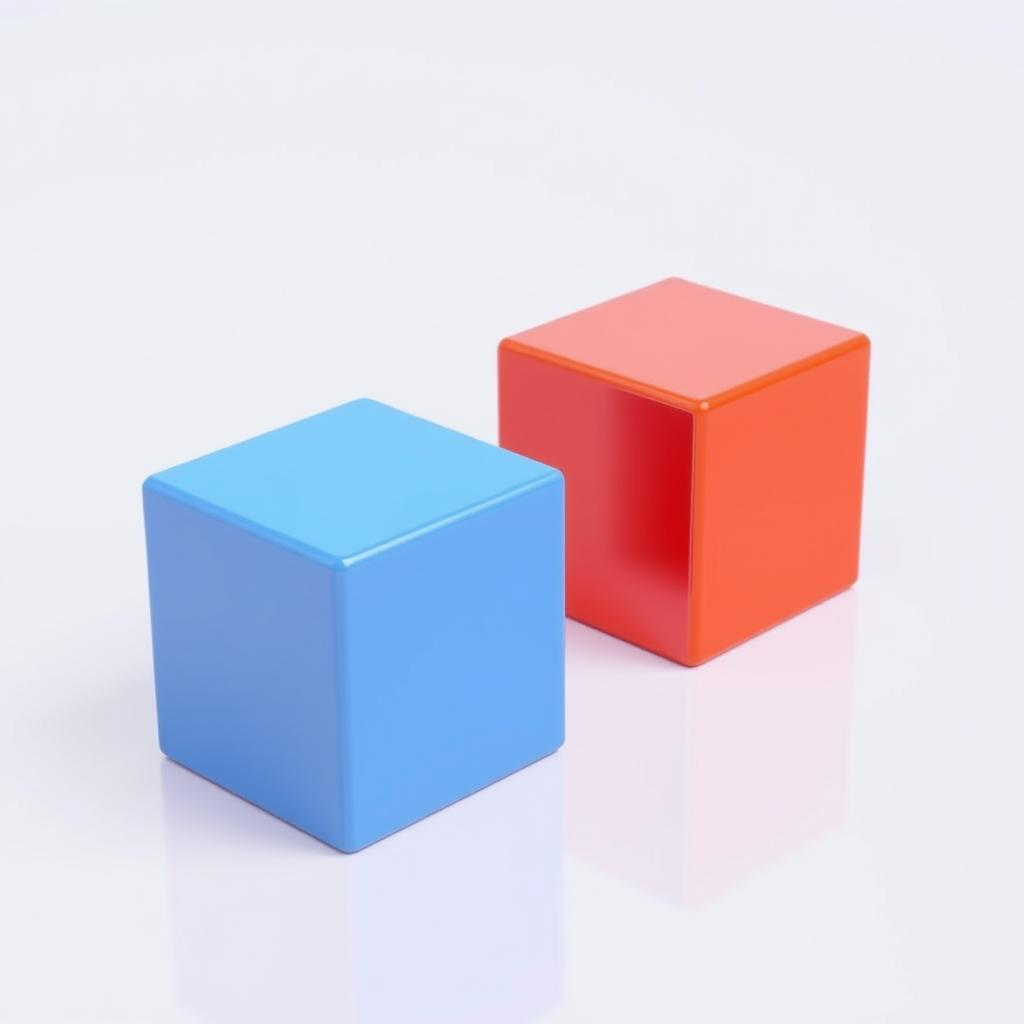cube: (140, 395, 567, 854), (496, 274, 871, 668)
